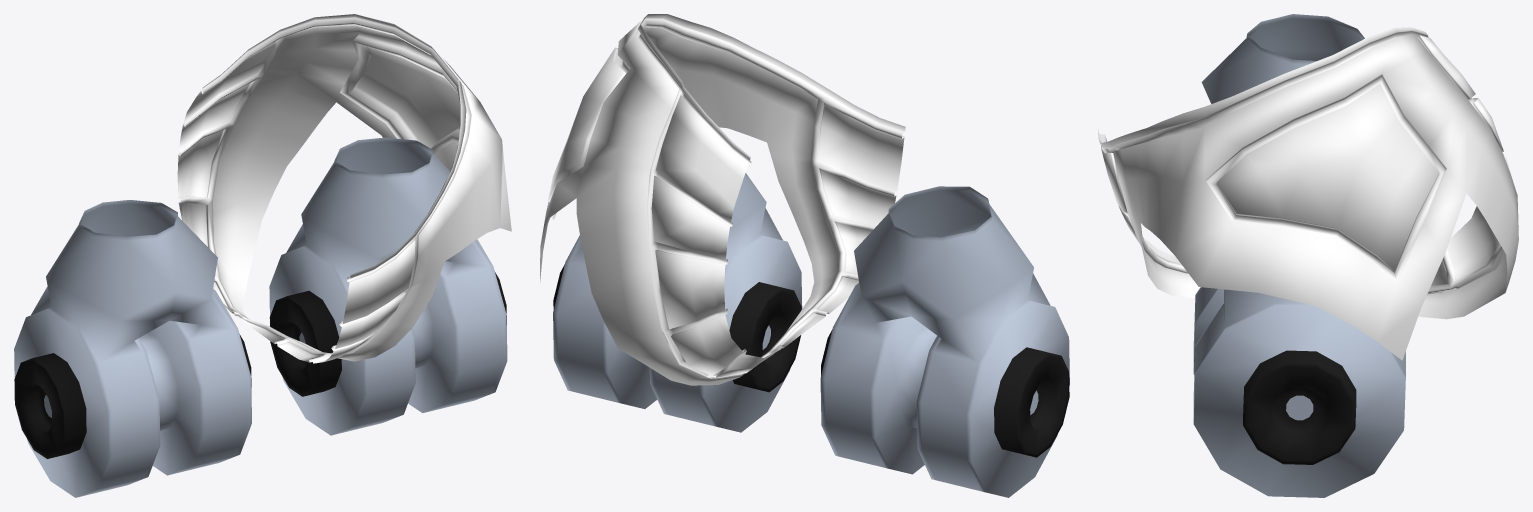
Rendered from pelvis.dae.
3 views of the same model, side by side, from view 1: azimuth 30°, elevation 25°; view 2: azimuth 150°, elevation 25°; view 3: azimuth 270°, elevation 25° (orthographic). The views are drawn at different scales.
Visible parts, largest first — view 1: Mesh_009, Circle_148, Circle_150; view 2: Mesh_009, Circle_148, Circle_150; view 3: Mesh_009, Circle_150, Circle_148.
Boxes of the visible parts, x1=… form: Mesh_009: x1=177, y1=14, x2=511, y2=363; Circle_148: x1=14, y1=200, x2=251, y2=497; Circle_150: x1=269, y1=137, x2=507, y2=435; Mesh_009: x1=540, y1=14, x2=905, y2=385; Circle_148: x1=820, y1=186, x2=1069, y2=497; Circle_150: x1=553, y1=173, x2=802, y2=432; Mesh_009: x1=1098, y1=27, x2=1518, y2=360; Circle_150: x1=1193, y1=287, x2=1405, y2=497; Circle_148: x1=1201, y1=14, x2=1364, y2=103.
Size of the model in its own units: 5.25 by 3.77 by 4.14.
